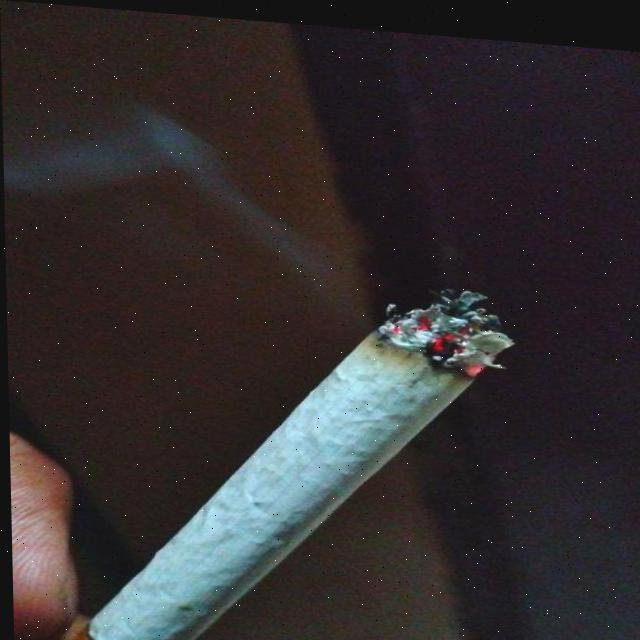cigarette: (22, 254, 514, 640)
